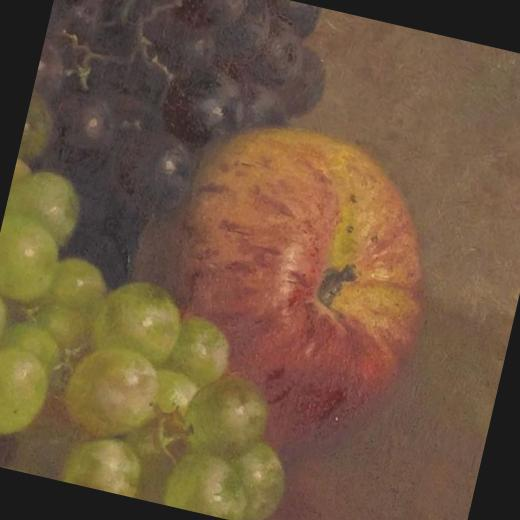Apple: (117, 89, 442, 462)
Orange: (0, 0, 391, 520)
